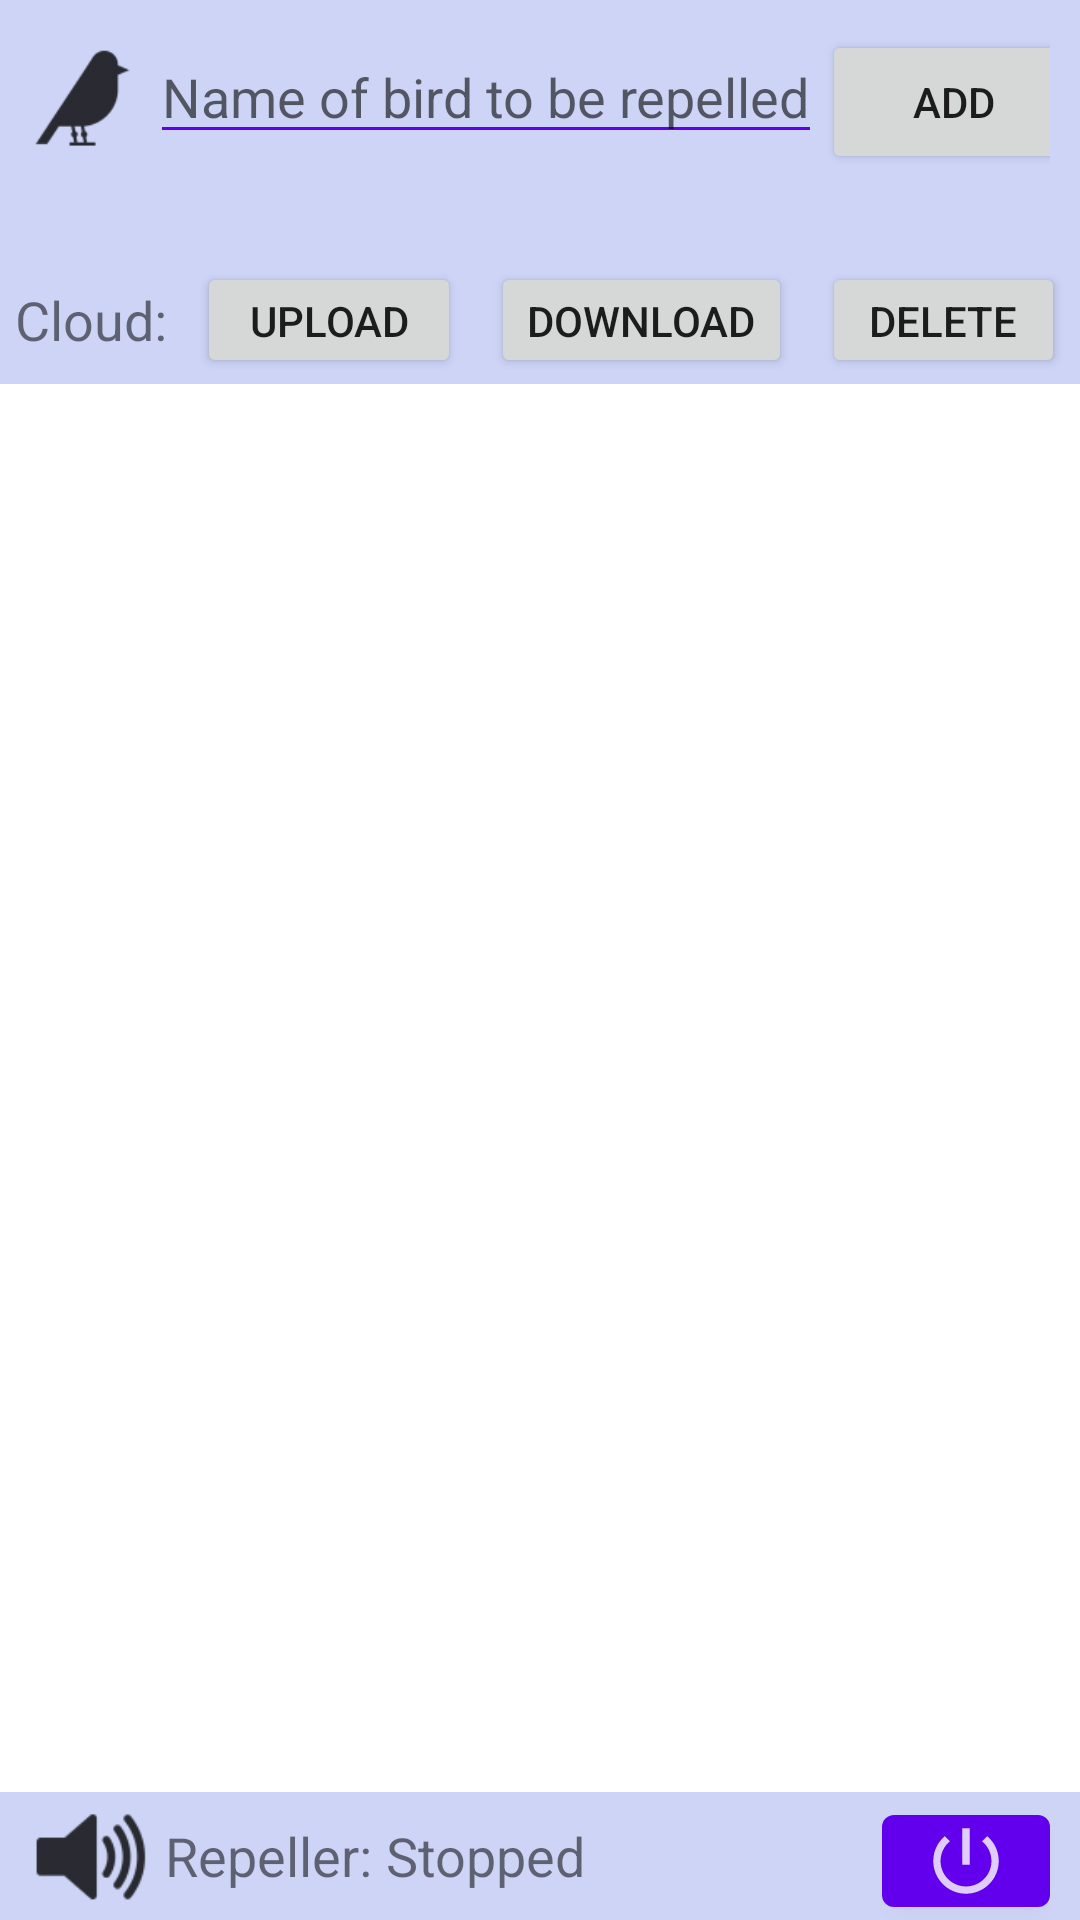

Screen size 1080x1920. Icon name, then its center in pixels as point (x, y):
power: point (966, 1861)
speaker: point (91, 1857)
